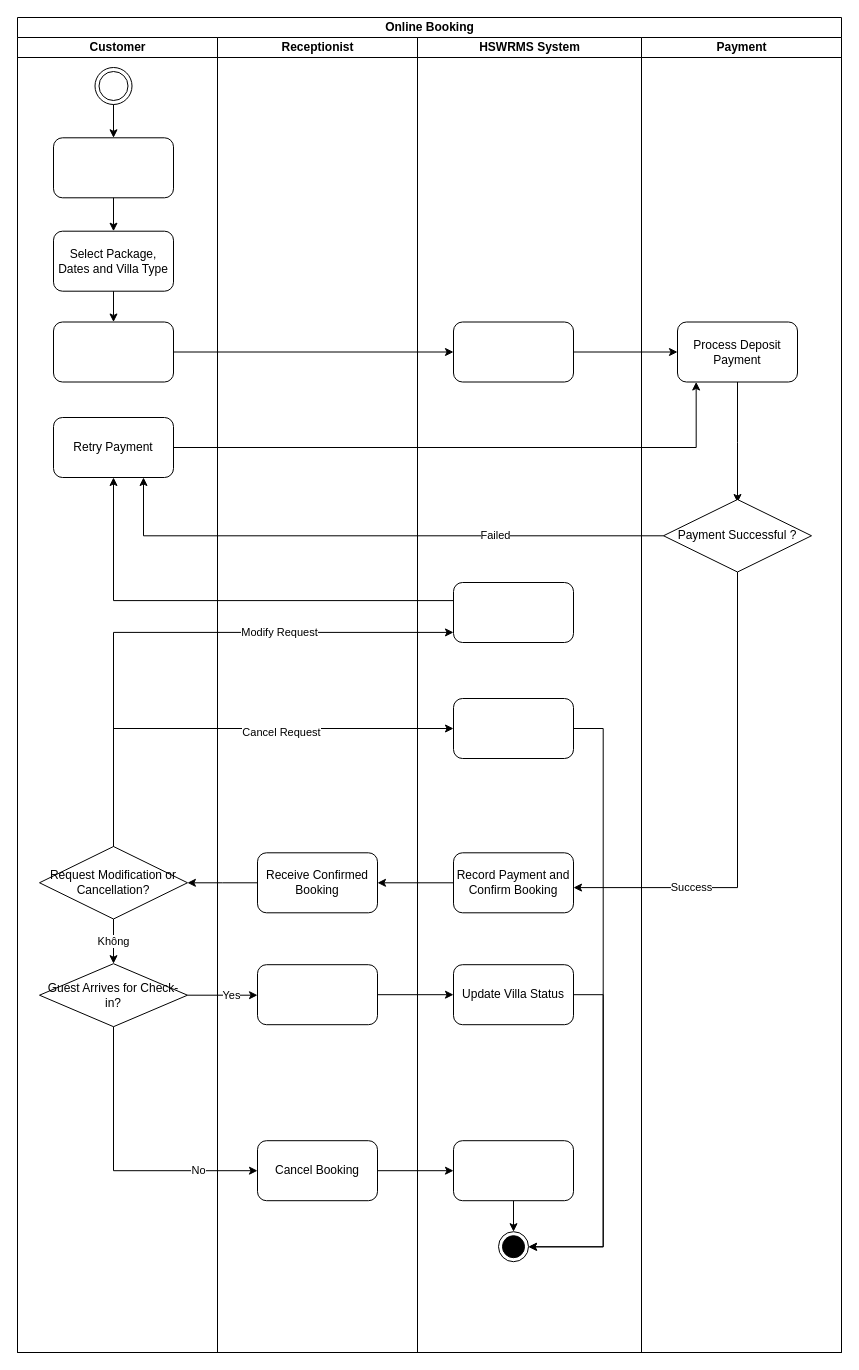
Image size: 859x1370. Some labels were removed from this diagram. Each missing label, with the box of its shape:
Calculate Total Cost & Required Deposit: (452, 321, 574, 382)
Perform Check-in and Assign Villa: (256, 964, 378, 1025)
Process Deposit Retention and Update Villa Status: (452, 1140, 574, 1201)
Process Refund and Update Villa Status: (452, 698, 574, 758)
Recalculate Total Cost: (452, 582, 574, 642)
Search Retreat Packages: (52, 137, 174, 198)
Submit Booking Request: (52, 321, 174, 382)
